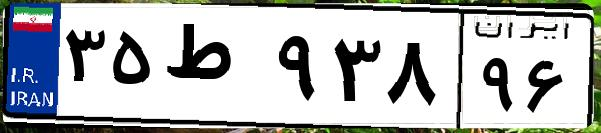3: (330, 28, 385, 110), (57, 26, 110, 100)
5: (110, 28, 158, 98)
6: (525, 38, 570, 115)
8: (385, 28, 445, 110)
9: (270, 28, 330, 110), (475, 38, 525, 113)
ط: (158, 20, 270, 120)
